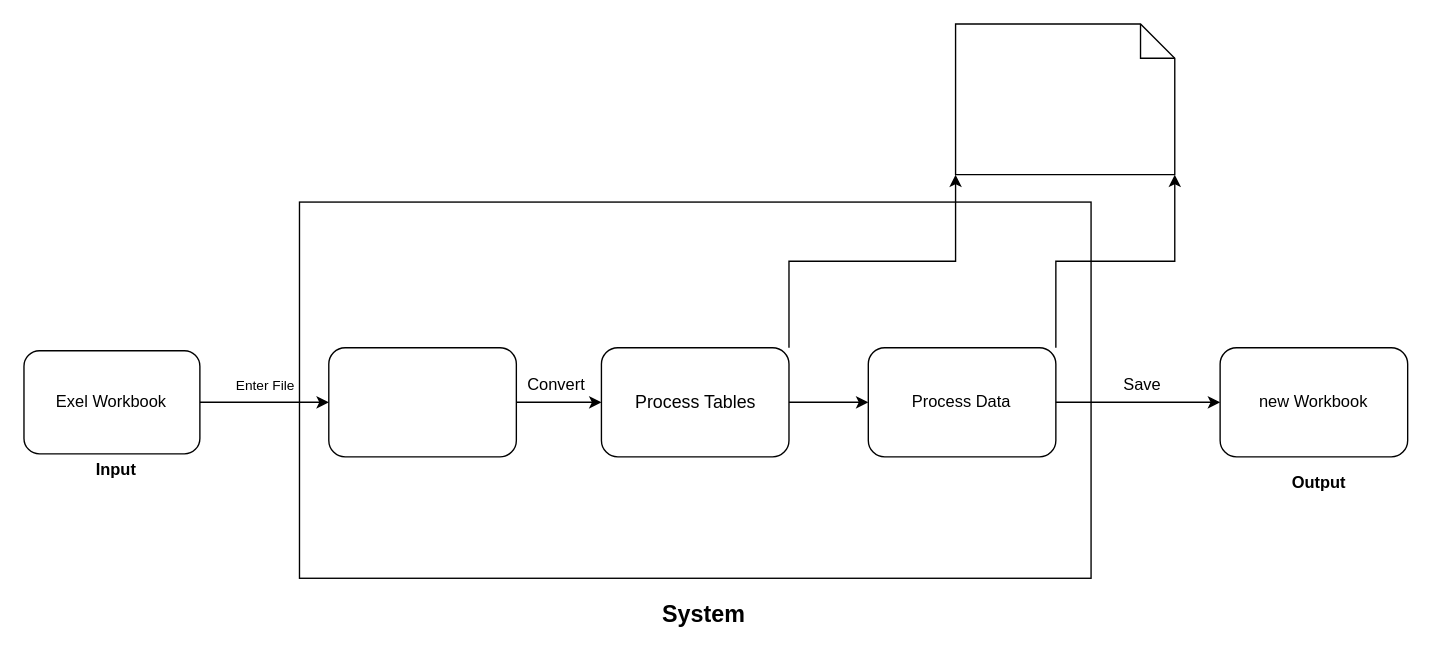
This 1432x653 diagram has some shape labels left out. The centre of each missing label's shape, as x and y in pixels:
Read File: (421,401)
These parts are changable debends on the data and what the user's needs: (1064,99)
